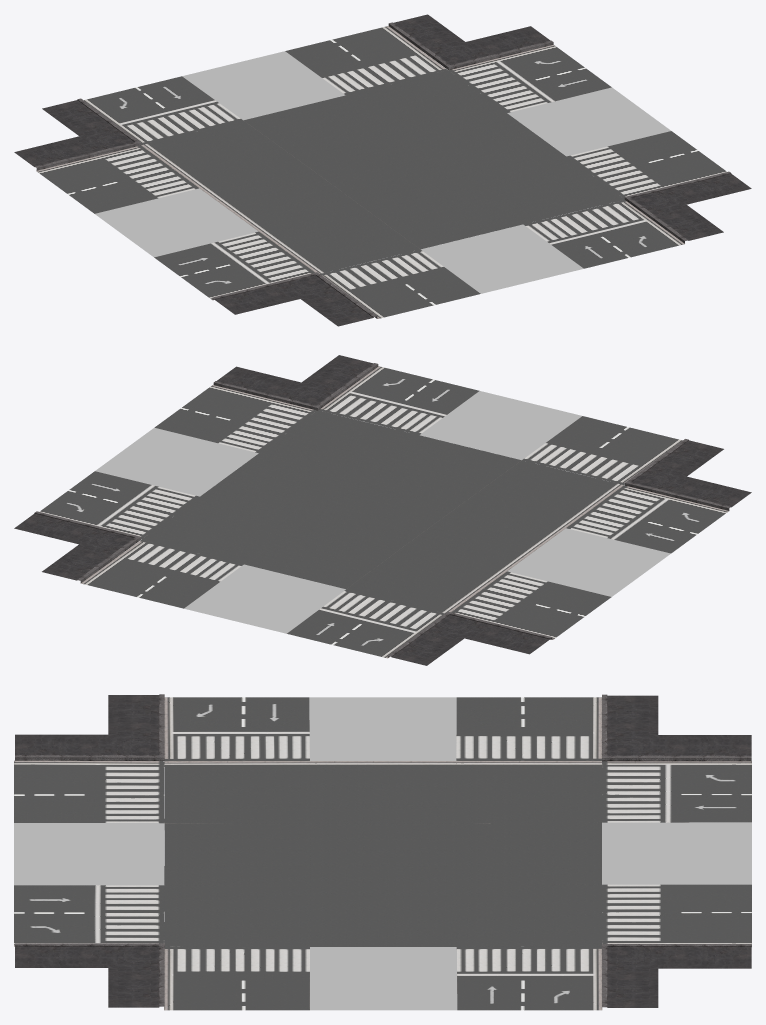
File: 6 line cross intersection.FBX
3 views of the same model, one above another, from view 1: azimuth 30°, elevation 25°; view 2: azimuth 150°, elevation 25°; view 3: azimuth 270°, elevation 25° (orthographic). The views are drawn at different scales.
Parts seen in each view (by area): view 1: Object001; view 2: Object001; view 3: Object001.
Boxes of the visible parts, <box> form: Object001: <box>14,14,751,326</box>; Object001: <box>14,355,751,665</box>; Object001: <box>14,694,751,1010</box>.
Bounding box in the file's own units: 59.29 × 0.3187 × 59.07.
